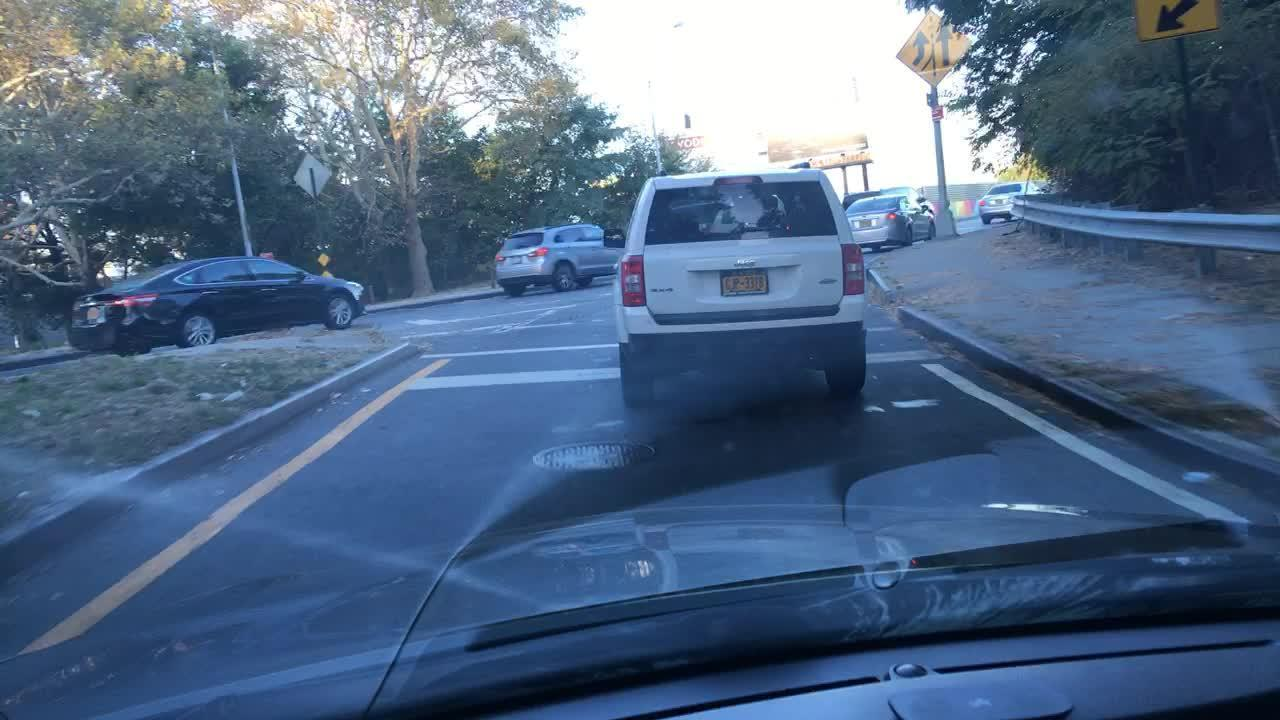jeep: (733, 259, 757, 269)
